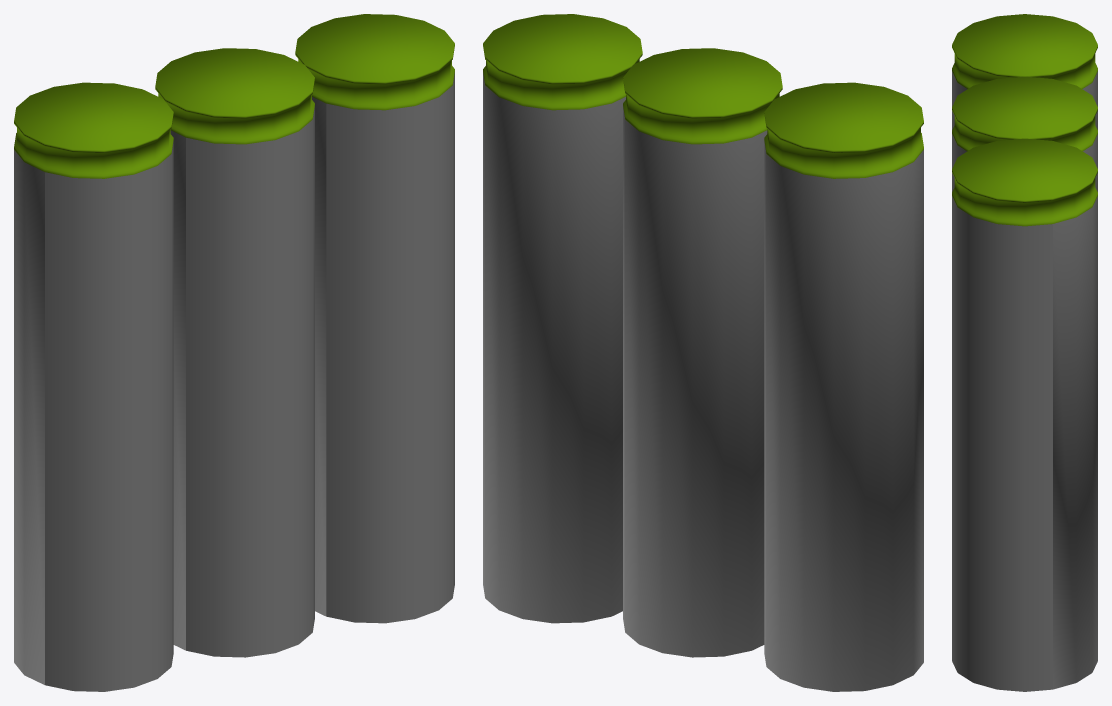
Rendered from ShotGunBulletPrefab.fbx.
The picture shows the model from 3 angles, left to right: view 1: azimuth 30°, elevation 25°; view 2: azimuth 150°, elevation 25°; view 3: azimuth 270°, elevation 25°; orthographic projection. The views are drawn at different scales.
Visible parts, largest first — view 1: Cylinder.001, Cylinder.000, Cylinder.002; view 2: Cylinder.001, Cylinder.000, Cylinder.002; view 3: Cylinder.002, Cylinder.001, Cylinder.000.
Part boxes in pixels (left/top/right/bottom): Cylinder.001: left=14, top=82, right=173, bottom=691; Cylinder.000: left=155, top=48, right=314, bottom=657; Cylinder.002: left=295, top=14, right=454, bottom=623; Cylinder.001: left=764, top=82, right=923, bottom=691; Cylinder.000: left=623, top=48, right=782, bottom=657; Cylinder.002: left=483, top=14, right=642, bottom=623; Cylinder.002: left=952, top=138, right=1097, bottom=691; Cylinder.001: left=952, top=14, right=1097, bottom=129; Cylinder.000: left=952, top=76, right=1097, bottom=191.
Size of the model in its own units: 6.04 by 7.43 by 2.
